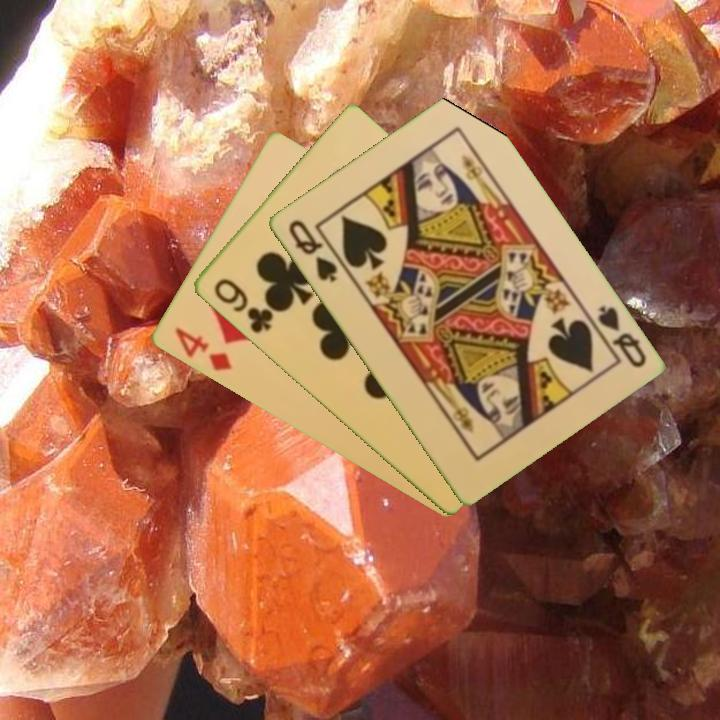4d: (171, 324, 235, 374)
9c: (210, 275, 276, 337)
Qs: (584, 302, 649, 371), (284, 216, 340, 286)
